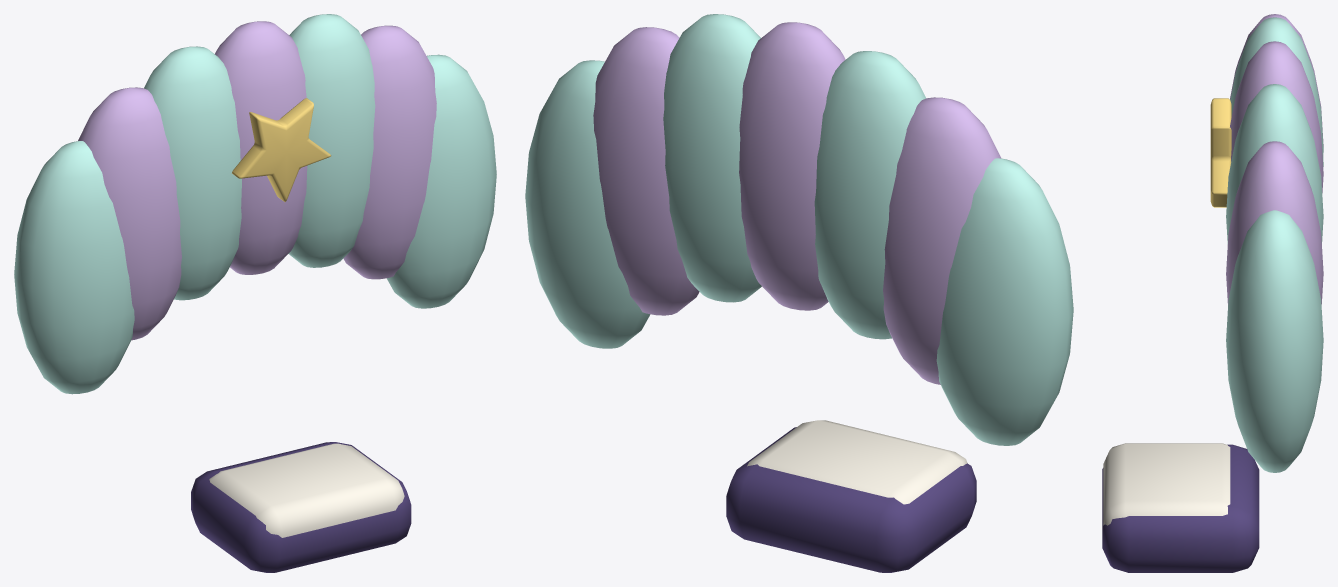
File: shell_throne.glb
3 renders of one model, left to right at view 1: azimuth 30°, elevation 25°; view 2: azimuth 150°, elevation 25°; view 3: azimuth 270°, elevation 25°, orthographic. The views are drawn at different scales.
Visible parts, largest first — view 1: ShellLobe_0, ShellLobe_2, ShellLobe_4, ShellLobe_6, ShellLobe_1, ShellLobe_5, ShellLobe_3, Seat, SeatInk, CrownStar; view 2: ShellLobe_0, ShellLobe_3, ShellLobe_4, ShellLobe_2, ShellLobe_6, ShellLobe_1, ShellLobe_5, SeatInk, Seat; view 3: ShellLobe_6, SeatInk, Seat, ShellLobe_5, ShellLobe_4, ShellLobe_3, ShellLobe_2, CrownStar, ShellLobe_1.
Part boxes in pixels (left/top/right/bottom): ShellLobe_0: left=14, top=141, right=134, bottom=394; ShellLobe_2: left=144, top=46, right=241, bottom=300; ShellLobe_4: left=288, top=14, right=375, bottom=267; ShellLobe_6: left=387, top=54, right=496, bottom=308; ShellLobe_1: left=78, top=87, right=181, bottom=340; ShellLobe_5: left=343, top=25, right=436, bottom=279; ShellLobe_3: left=215, top=21, right=307, bottom=274; Seat: left=209, top=443, right=404, bottom=537; SeatInk: left=191, top=442, right=411, bottom=572; CrownStar: left=232, top=98, right=331, bottom=201; ShellLobe_0: left=936, top=158, right=1073, bottom=445; ShellLobe_3: left=739, top=22, right=845, bottom=310; ShellLobe_4: left=663, top=14, right=761, bottom=302; ShellLobe_2: left=814, top=51, right=926, bottom=339; ShellLobe_6: left=525, top=60, right=650, bottom=348; ShellLobe_1: left=883, top=97, right=1001, bottom=384; ShellLobe_5: left=593, top=27, right=699, bottom=315; SeatInk: left=726, top=427, right=976, bottom=572; Seat: left=747, top=420, right=967, bottom=504; ShellLobe_6: left=1226, top=210, right=1323, bottom=472; SeatInk: left=1102, top=444, right=1259, bottom=572; Seat: left=1103, top=443, right=1230, bottom=525; ShellLobe_5: left=1226, top=141, right=1323, bottom=304; ShellLobe_4: left=1226, top=84, right=1323, bottom=243; ShellLobe_3: left=1230, top=41, right=1323, bottom=192; ShellLobe_2: left=1230, top=17, right=1323, bottom=159; CrownStar: left=1210, top=98, right=1231, bottom=207; ShellLobe_1: left=1230, top=14, right=1323, bottom=146.
Bounding box in the file's own units: 8.07 × 7.87 × 3.18.
